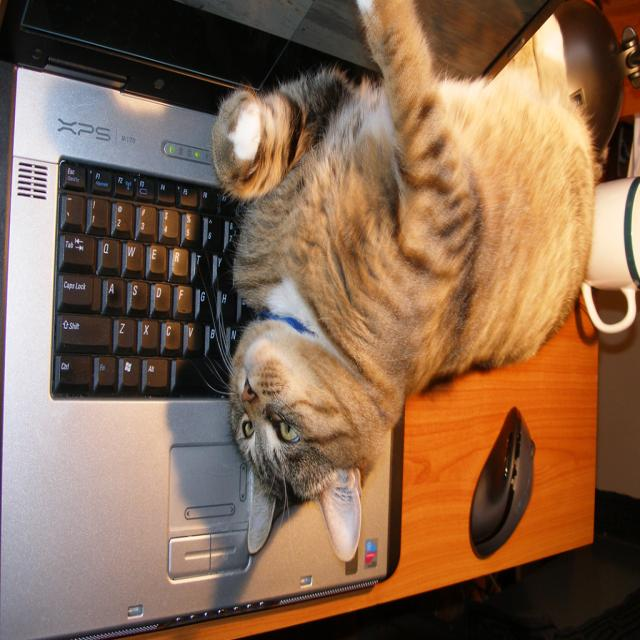Cat: (192, 0, 600, 566)
